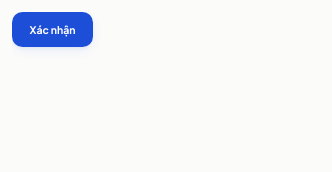
Unified UI Primitives › prevents double-click on async Button onClick
Later steps or results of the test are not shown.
Click the button "Xác nhận" at (53,30), box x1=12 y1=12 x2=93 y2=47
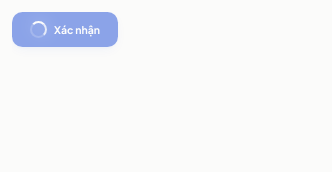
Click the button "Xác nhận" at (65,30), box x1=12 y1=12 x2=118 y2=47
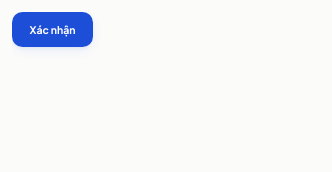
Expected: the button "Xác nhận" is enabled, x1=12 y1=12 x2=93 y2=47
